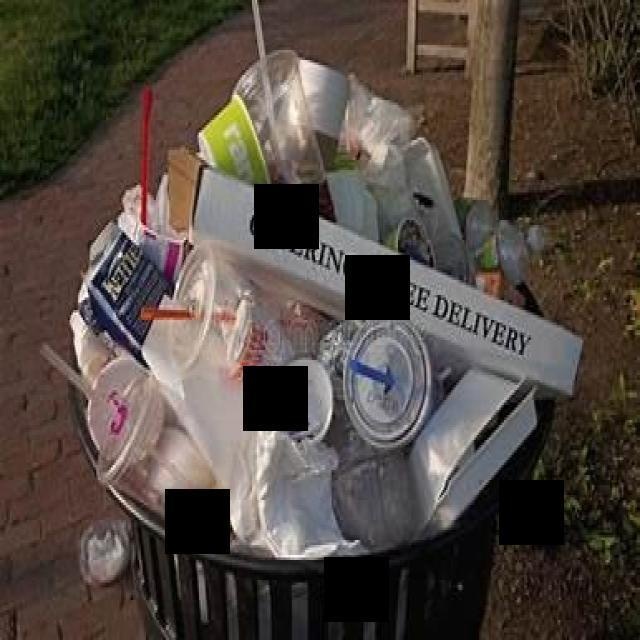Disposable: (144, 243, 290, 388), (234, 49, 325, 201), (344, 317, 431, 450), (87, 356, 166, 484)
Garbage: (59, 0, 581, 557)
Plastic_Container: (135, 422, 215, 536), (198, 94, 271, 189)
Plastic_Straw: (40, 343, 91, 400), (140, 85, 153, 224), (251, 0, 266, 60), (140, 307, 196, 320)
Plastic_bottle: (475, 221, 545, 298)
